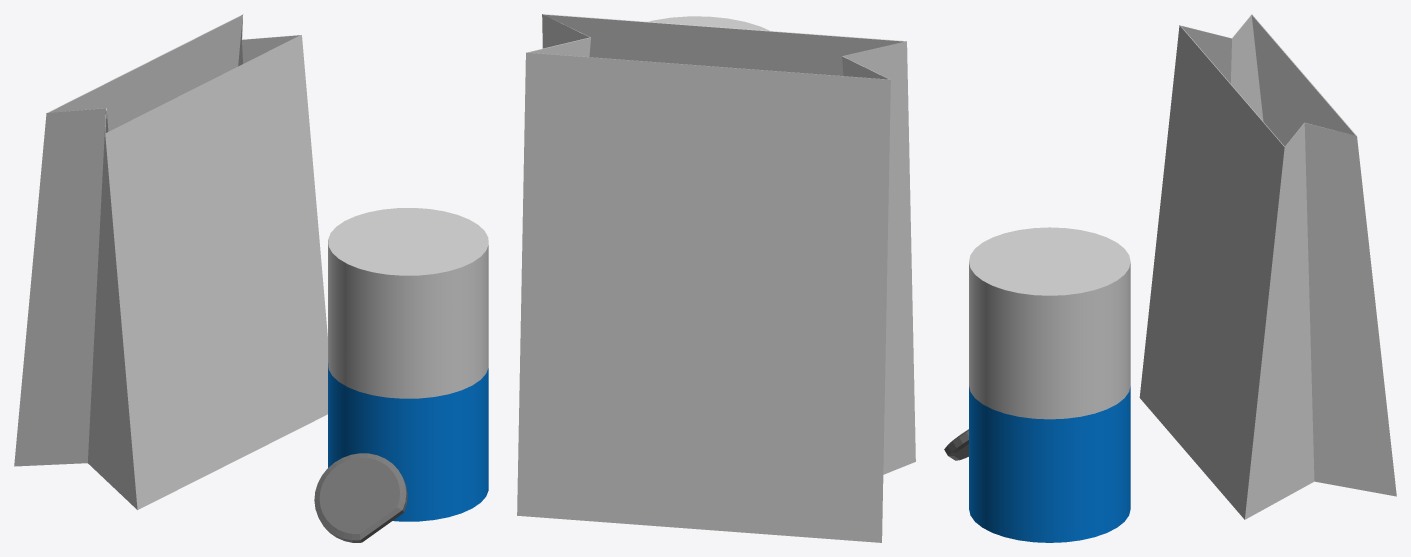
The model's file is Blocking.gltf.
3 views of the same model, side by side, from view 1: azimuth 30°, elevation 25°; view 2: azimuth 150°, elevation 25°; view 3: azimuth 270°, elevation 25° (orthographic). The views are drawn at different scales.
Visible parts, largest first — view 1: Cylinder; view 2: Cylinder; view 3: Cylinder.
Part boxes in pixels (box(x1,y1,x2,y2)): Cylinder: box(14, 14, 488, 542); Cylinder: box(517, 14, 915, 542); Cylinder: box(944, 14, 1396, 542).
Size of the model in its own units: 0.2396 by 0.2431 by 0.2721.
